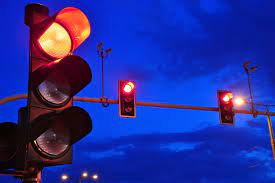red: (24, 8, 84, 165), (118, 79, 136, 118), (217, 90, 235, 125)
